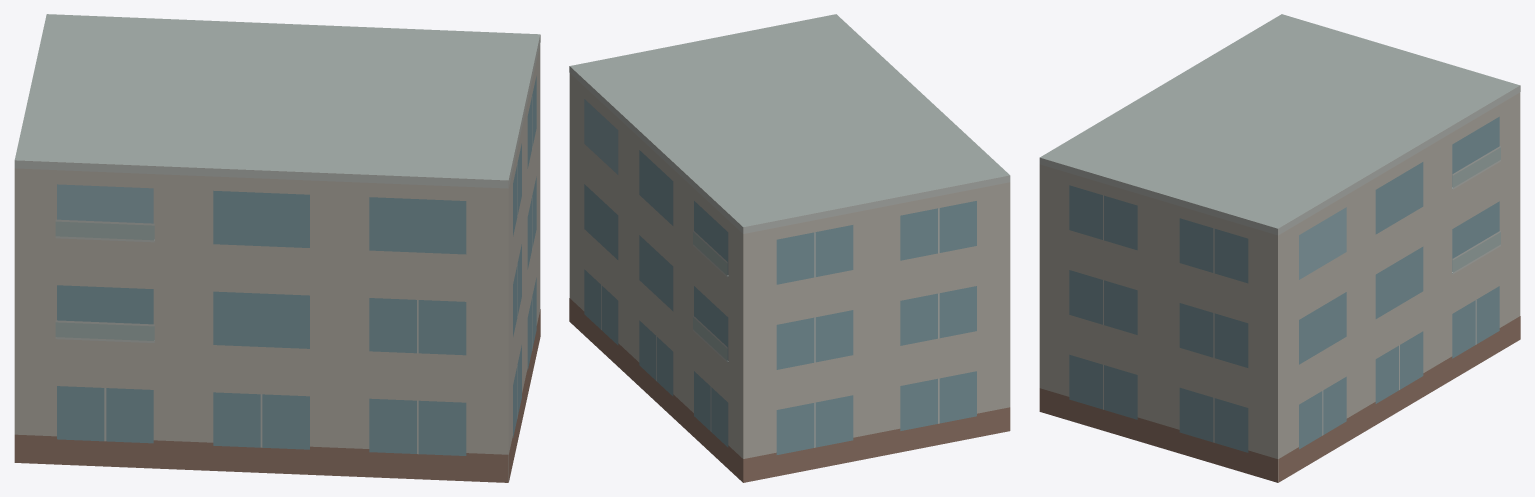
Rendered from survey-upis-32706680.glb.
The picture shows the model from 3 angles, left to right: view 1: azimuth 30°, elevation 25°; view 2: azimuth 150°, elevation 25°; view 3: azimuth 270°, elevation 25°; orthographic projection. The views are drawn at different scales.
Parts seen in each view (by area): view 1: survey-upis-32706680.tmp; view 2: survey-upis-32706680.tmp; view 3: survey-upis-32706680.tmp.
Boxes of the visible parts, x1,y1,x2,y2 form: survey-upis-32706680.tmp: (14,14,540,482); survey-upis-32706680.tmp: (569,14,1010,482); survey-upis-32706680.tmp: (1039,14,1520,482).
Size of the model in its own units: 16.59 by 9.15 by 15.7.
